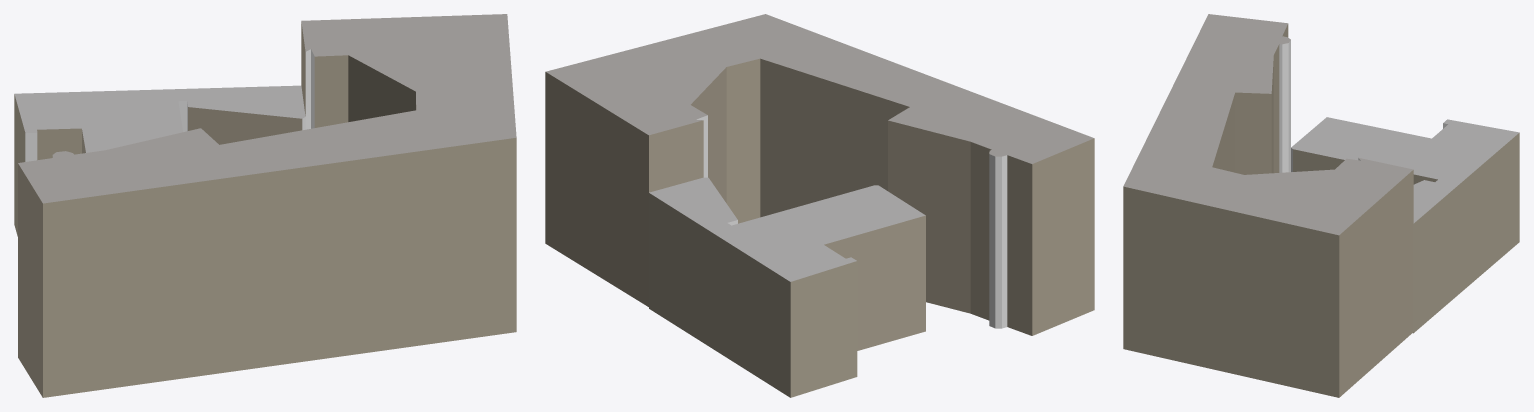
3 views of the same model, side by side, from view 1: azimuth 30°, elevation 25°; view 2: azimuth 150°, elevation 25°; view 3: azimuth 270°, elevation 25° (orthographic). The views are drawn at different scales.
Parts seen in each view (by area): view 1: tuile; view 2: tuile; view 3: tuile.
Boxes of the visible parts, bbox=[...] form: tuile: bbox=[14, 14, 516, 397]; tuile: bbox=[545, 14, 1094, 397]; tuile: bbox=[1123, 14, 1519, 397].
Bounding box in the file's own units: 97.8 × 33.74 × 74.01.
